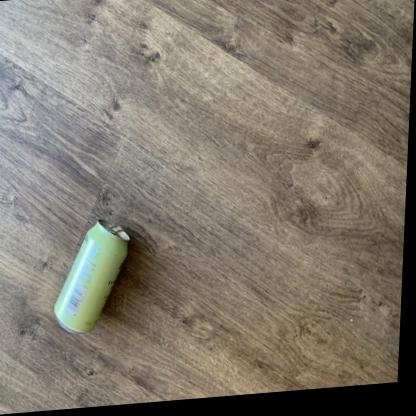trash: (54, 222, 128, 332)
